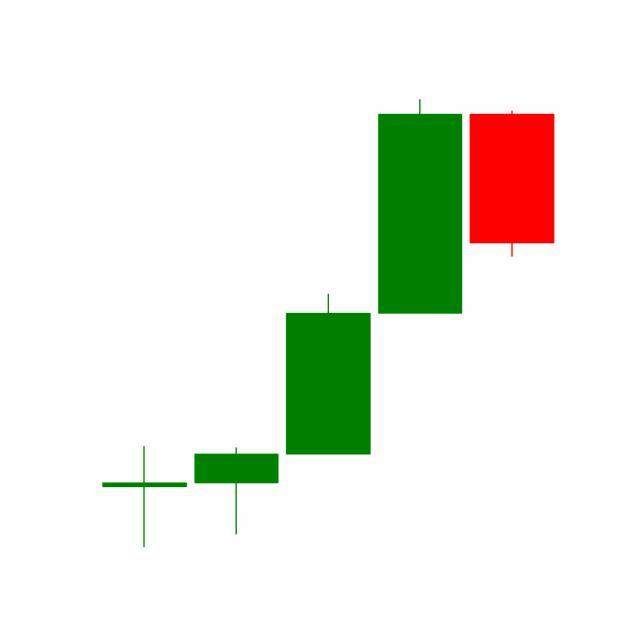Marubozu: (466, 110, 559, 260)
